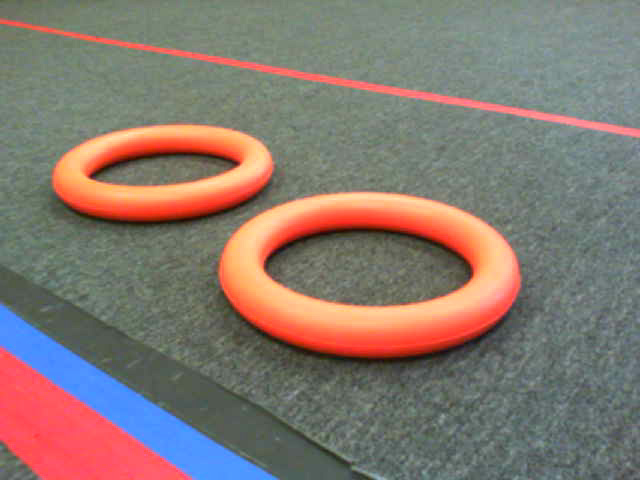Note: (218, 197, 527, 359), (53, 129, 281, 224)
